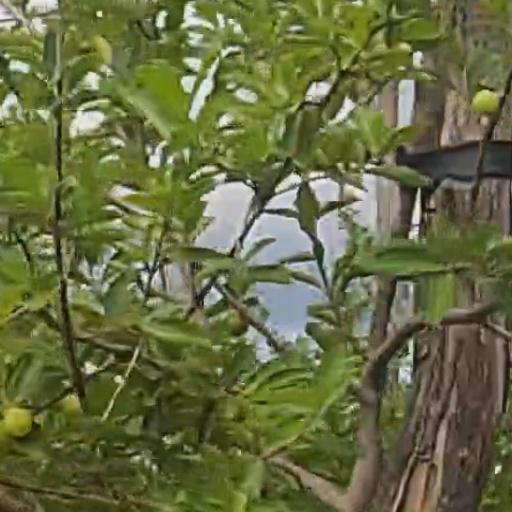acerola: (474, 91, 498, 114)
